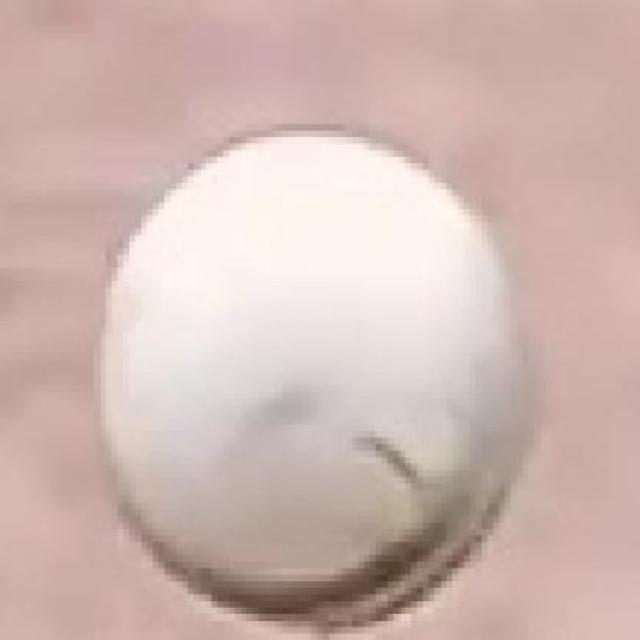Cricket ball: (96, 121, 546, 640)
